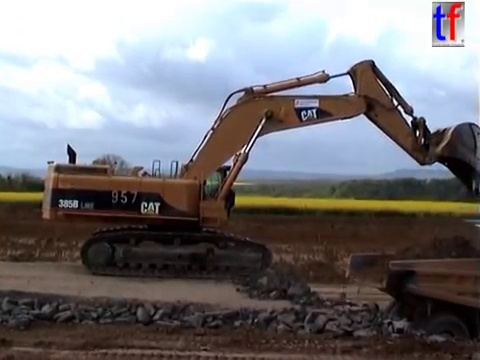excavator: (38, 56, 480, 284)
truck: (342, 248, 480, 360)
